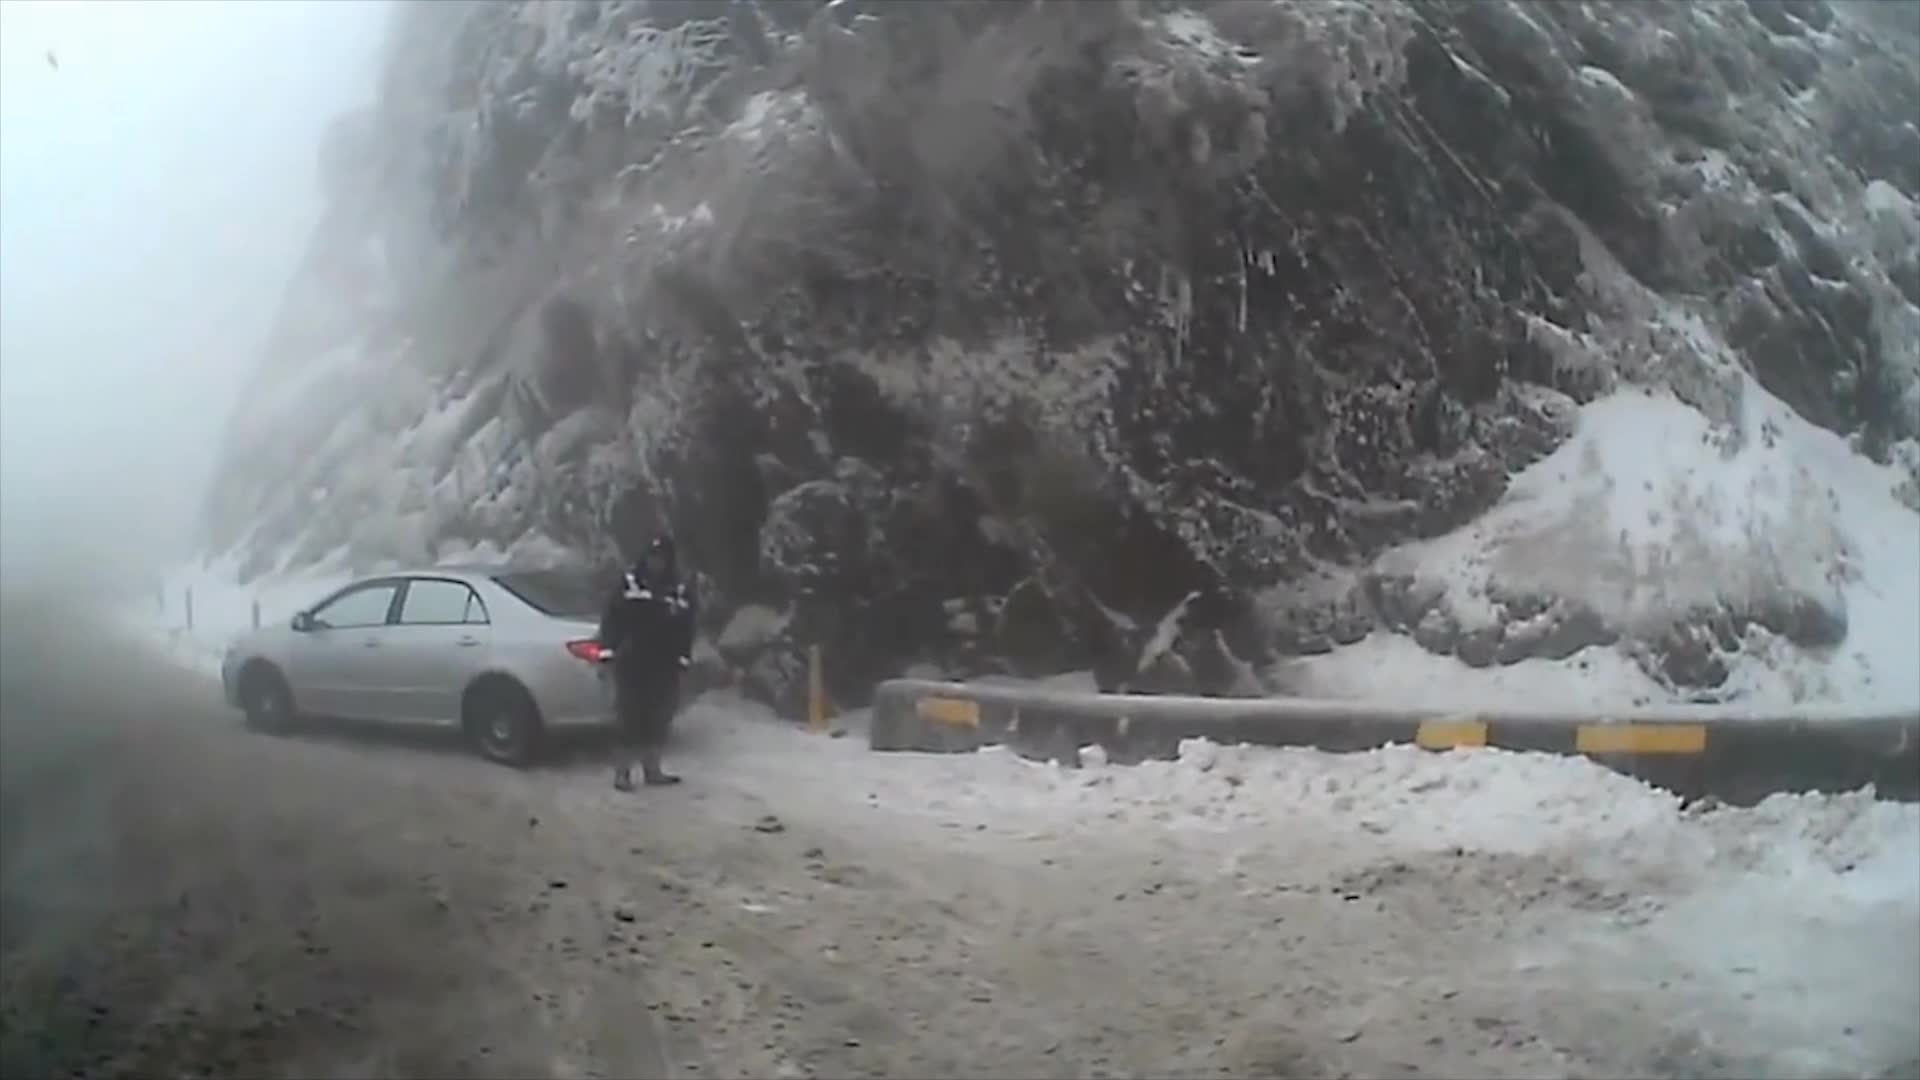pedestrian: (606, 537, 700, 792)
vehicle: (221, 559, 697, 768)
